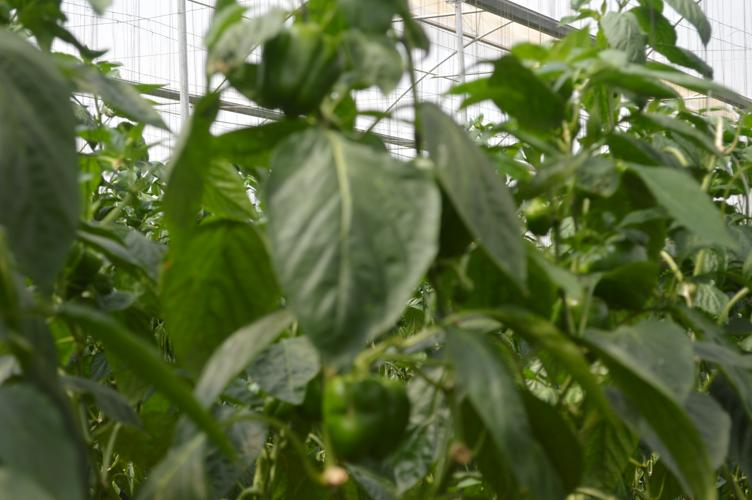BellPepper: (254, 23, 348, 116), (324, 374, 404, 462), (577, 238, 657, 310)
